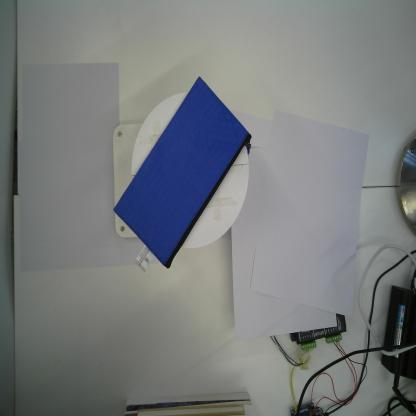Stationery: (120, 79, 254, 273)
